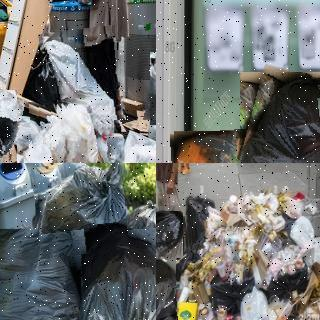Garbage: (41, 27, 124, 141), (33, 163, 132, 256), (229, 68, 320, 163), (73, 221, 156, 320), (0, 227, 84, 320), (29, 97, 107, 163), (126, 171, 156, 320), (172, 129, 257, 163), (114, 120, 156, 163), (184, 194, 214, 250), (0, 85, 21, 163), (156, 208, 185, 260), (156, 249, 177, 320), (146, 50, 156, 126)
